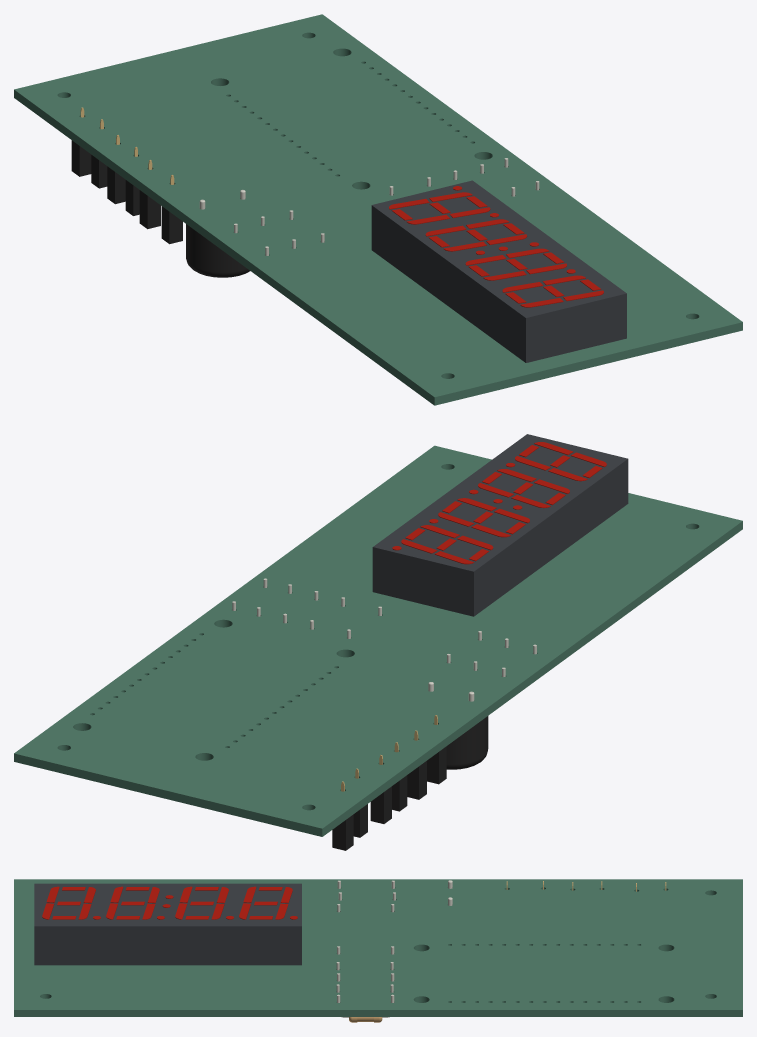
The model's file is alarm-clock-pcb.glb.
3 views of the same model, one above another, from view 1: azimuth 30°, elevation 25°; view 2: azimuth 150°, elevation 25°; view 3: azimuth 270°, elevation 25° (orthographic). The views are drawn at different scales.
Visible parts, largest first — view 1: =>[0:1:1:10], =>[0:1:1:3], =>[0:1:1:5] (×3), =>[0:1:1:9]; view 2: =>[0:1:1:10], =>[0:1:1:3], =>[0:1:1:9]; view 3: =>[0:1:1:10], =>[0:1:1:3], =>[0:1:1:7].
Part boxes in pixels (x1,y1,x2,y2): =>[0:1:1:10]: (14,14,742,405); =>[0:1:1:3]: (371,180,626,362); =>[0:1:1:5] (×3): (71,107,182,244); =>[0:1:1:9]: (186,189,249,277); =>[0:1:1:10]: (14,445,742,836); =>[0:1:1:3]: (372,434,628,616); =>[0:1:1:9]: (428,682,488,769); =>[0:1:1:10]: (14,879,742,1016); =>[0:1:1:3]: (34,883,301,965); =>[0:1:1:7]: (337,994,394,1022).
Bounding box in the file's own units: 0.058 × 0.0194 × 0.137.
